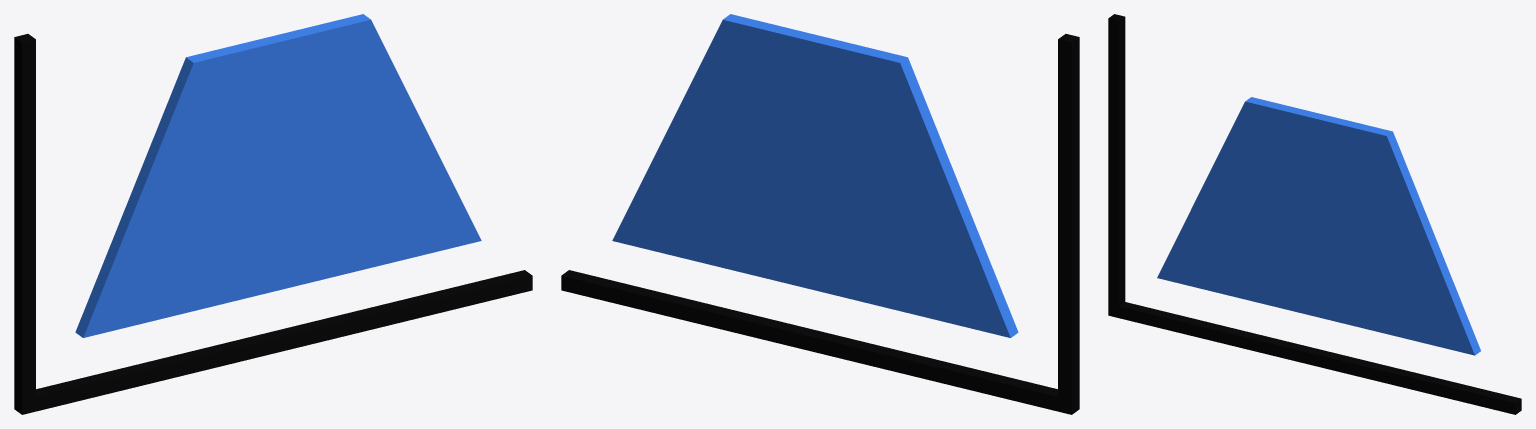
Rendered from trapecio.fbx.
3 renders of one model, left to right at view 1: azimuth 30°, elevation 25°; view 2: azimuth 150°, elevation 25°; view 3: azimuth 330°, elevation 25°, orthographic. The views are drawn at different scales.
Parts seen in each view (by area): view 1: Mesh_0.003, Mesh_1; view 2: Mesh_0.003, Mesh_1; view 3: Mesh_0.003, Mesh_1.
Part boxes in pixels (bbox=[...]): Mesh_0.003: bbox=[75, 14, 481, 337]; Mesh_1: bbox=[14, 34, 532, 414]; Mesh_0.003: bbox=[612, 14, 1018, 337]; Mesh_1: bbox=[561, 34, 1079, 414]; Mesh_0.003: bbox=[1157, 97, 1480, 355]; Mesh_1: bbox=[1108, 14, 1521, 414].
Bounding box in the file's own units: 8.61 × 6 × 0.2281.
